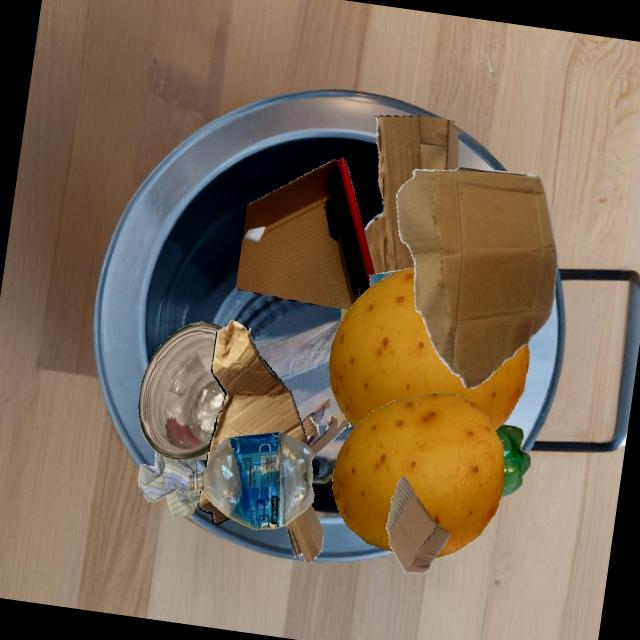biowaste: (329, 267, 530, 430), (332, 392, 504, 558)
cardboard: (396, 167, 557, 389), (235, 158, 374, 310), (364, 116, 458, 274), (210, 319, 308, 447), (203, 447, 312, 505), (386, 476, 451, 573), (301, 399, 352, 456), (286, 504, 323, 563)
glass: (138, 322, 225, 461), (354, 427, 355, 428)
paper: (138, 451, 201, 517), (369, 269, 408, 287)
plastic: (188, 432, 314, 530), (495, 425, 531, 497)
